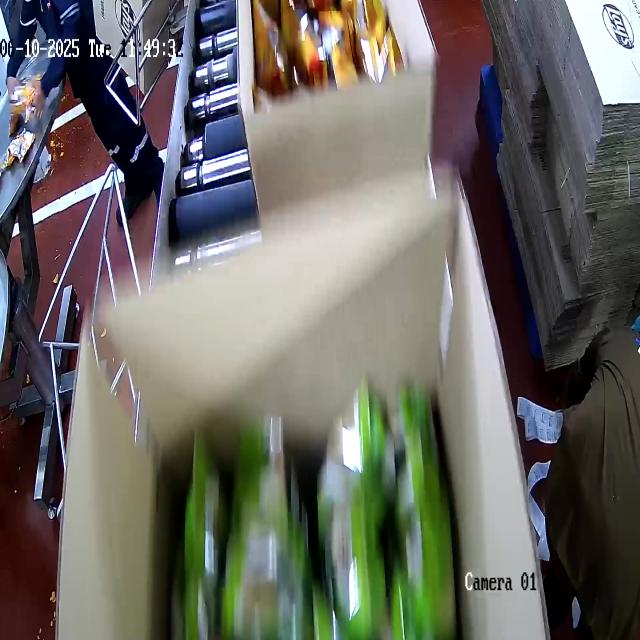FRENCH_CHEESE: (248, 0, 400, 94)
